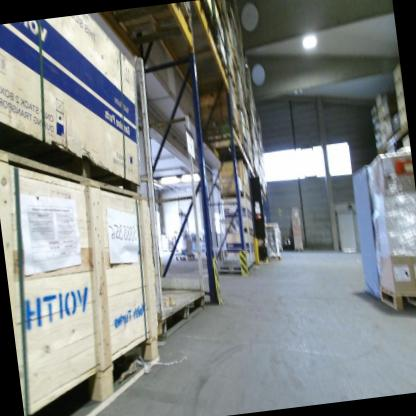pallet: (109, 1, 195, 57), (378, 282, 416, 321), (199, 115, 240, 145), (189, 0, 214, 35), (207, 44, 228, 82), (223, 61, 237, 95), (173, 249, 194, 263), (267, 253, 282, 263), (291, 247, 305, 254), (168, 247, 175, 253)
